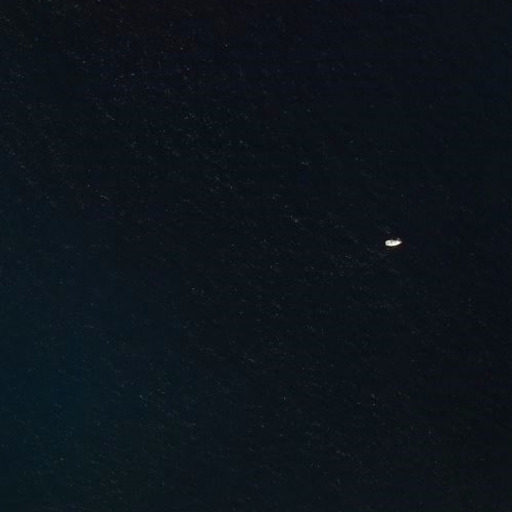ship: (381, 238, 404, 248)
